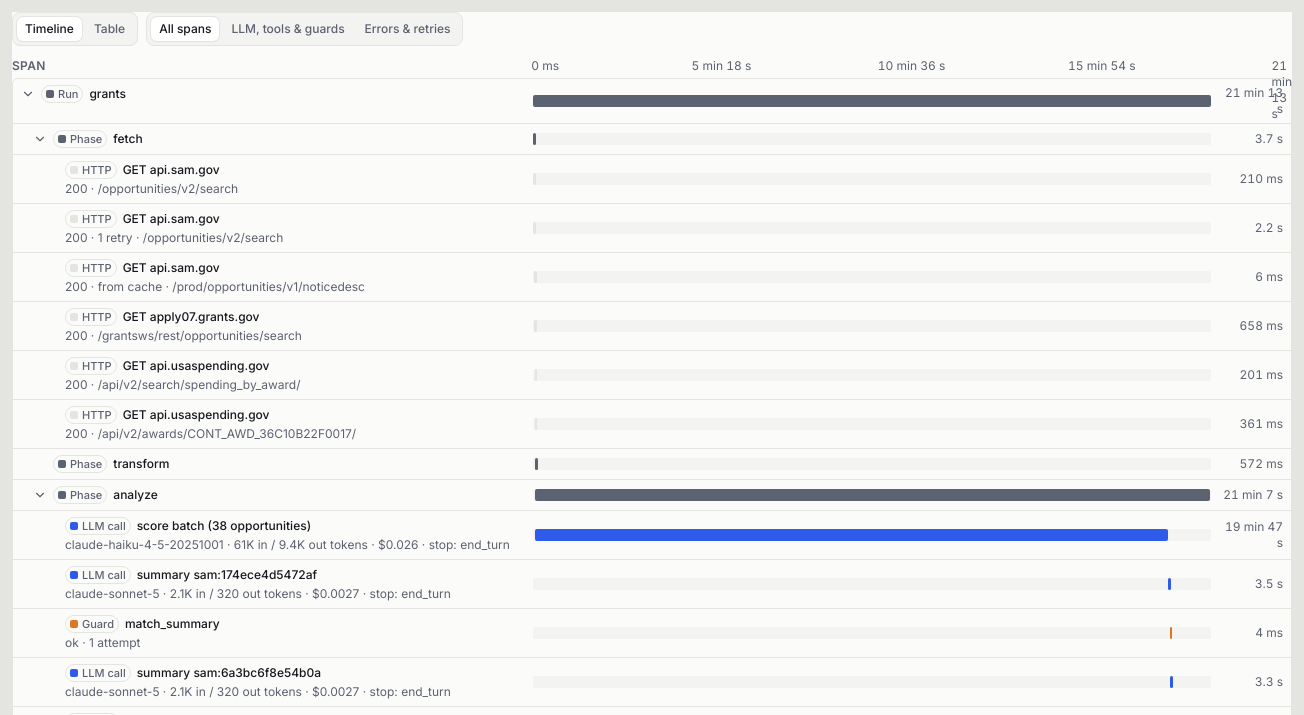
Test: TraceView › collapses a subtree from its toggle
What coordinates should you click on to do the following:
click the button named "Collapse fetch"
I would click on:
 (40, 139)
Its box is [33,132,47,146].
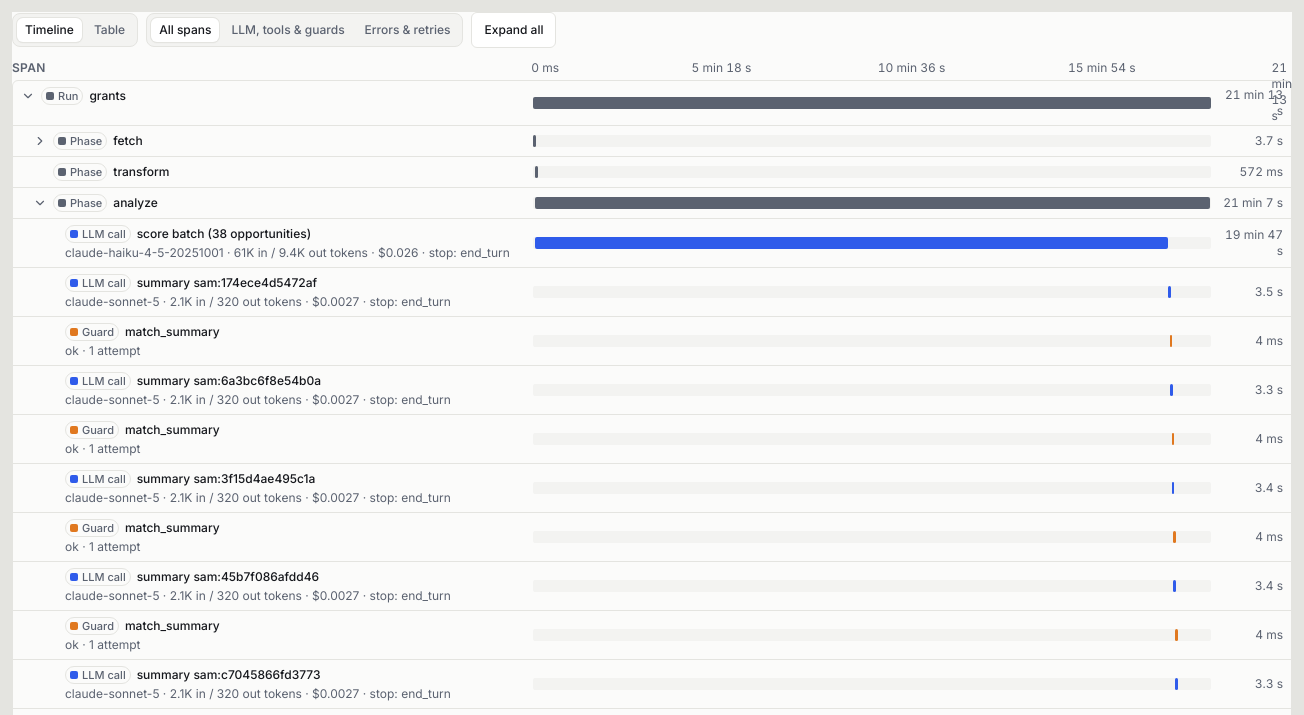
Now the button named "Expand fetch" is collapsed, box [33,134,47,148]
